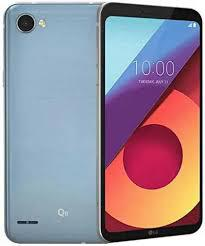Smartphone: (101, 6, 195, 242), (7, 9, 99, 244)
